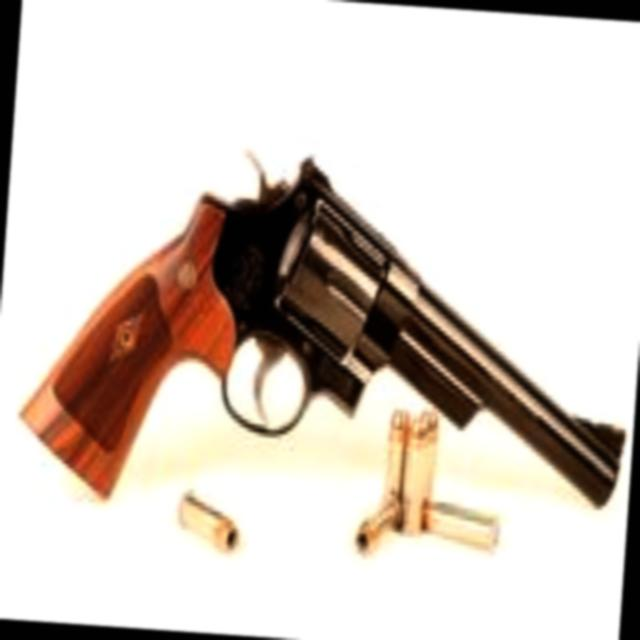revolver: (0, 121, 640, 591)
